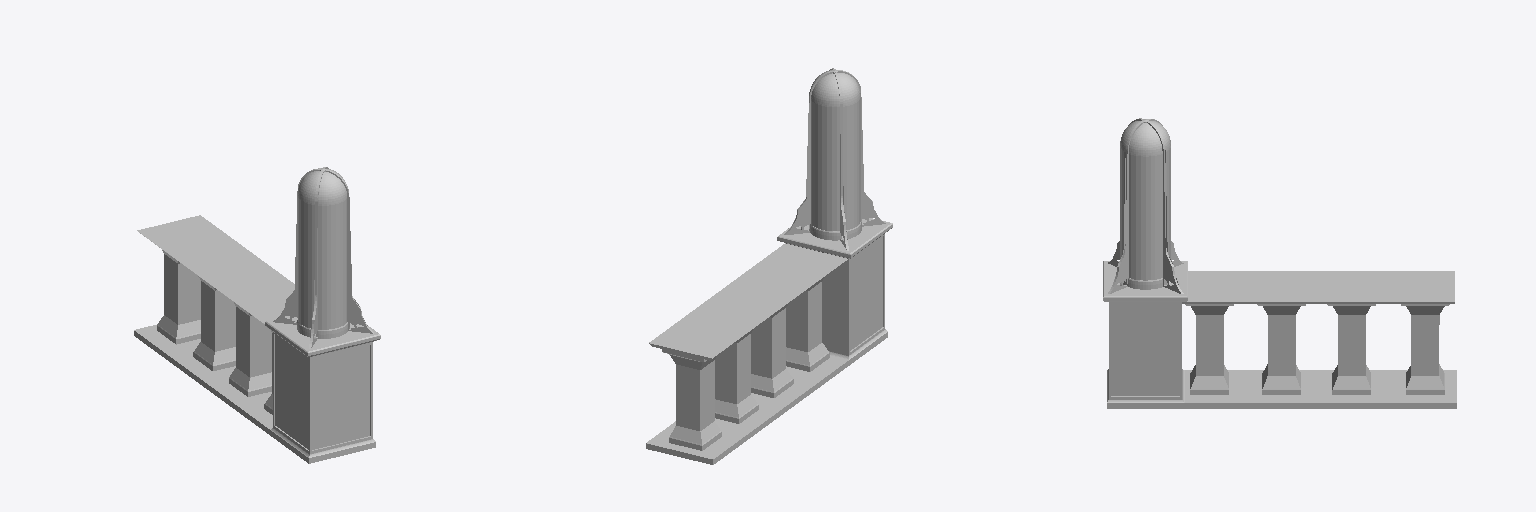
The model's file is barandilla.obj.
3 renders of one model, left to right at view 1: azimuth 30°, elevation 25°; view 2: azimuth 150°, elevation 25°; view 3: azimuth 270°, elevation 25°, orthographic.
Parts seen in each view (by area): view 1: Barandilla_Cube, Sphere, Cube.001, Cube.002_Cube.001, Cube.003_Cube.001, Curve_Mesh, Curve.002_Mesh, Curve.001_Mesh; view 2: Barandilla_Cube, Sphere, Cube.001, Cube.003_Cube.001, Cube_Cube.001, Cube.002_Cube.001, Curve.003_Mesh, Curve.001_Mesh, Curve.002_Mesh; view 3: Barandilla_Cube, Sphere, Cube.001, Cube.002_Cube.001, Cube_Cube.001, Cube.003_Cube.001, Curve_Mesh, Curve.003_Mesh.
Part boxes in pixels (left/top/right/bottom): Barandilla_Cube: left=134, top=215, right=380, bottom=463; Sphere: left=298, top=169, right=346, bottom=329; Cube.001: left=157, top=250, right=200, bottom=344; Cube.002_Cube.001: left=229, top=302, right=271, bottom=396; Cube.003_Cube.001: left=193, top=276, right=235, bottom=370; Curve_Mesh: left=326, top=169, right=373, bottom=333; Curve.002_Mesh: left=273, top=168, right=320, bottom=324; Curve.001_Mesh: left=309, top=171, right=323, bottom=348; Barandilla_Cube: left=646, top=218, right=892, bottom=464; Sphere: left=811, top=70, right=860, bottom=230; Cube.001: left=662, top=349, right=721, bottom=450; Cube.003_Cube.001: left=715, top=329, right=758, bottom=423; Cube_Cube.001: left=786, top=277, right=829, bottom=371; Cube.002_Cube.001: left=751, top=303, right=793, bottom=397; Curve.003_Mesh: left=784, top=71, right=832, bottom=234; Curve.001_Mesh: left=838, top=70, right=885, bottom=226; Curve.002_Mesh: left=834, top=72, right=848, bottom=250; Barandilla_Cube: left=1103, top=261, right=1456, bottom=408; Sphere: left=1120, top=121, right=1170, bottom=280; Cube.001: left=1401, top=304, right=1449, bottom=394; Cube.002_Cube.001: left=1257, top=304, right=1305, bottom=394; Cube_Cube.001: left=1185, top=304, right=1233, bottom=394; Cube.003_Cube.001: left=1327, top=304, right=1375, bottom=394; Curve_Mesh: left=1108, top=121, right=1143, bottom=293; Curve.003_Mesh: left=1147, top=121, right=1183, bottom=293.
Bounding box in the file's own units: 2.19 × 7.73 × 9.09.